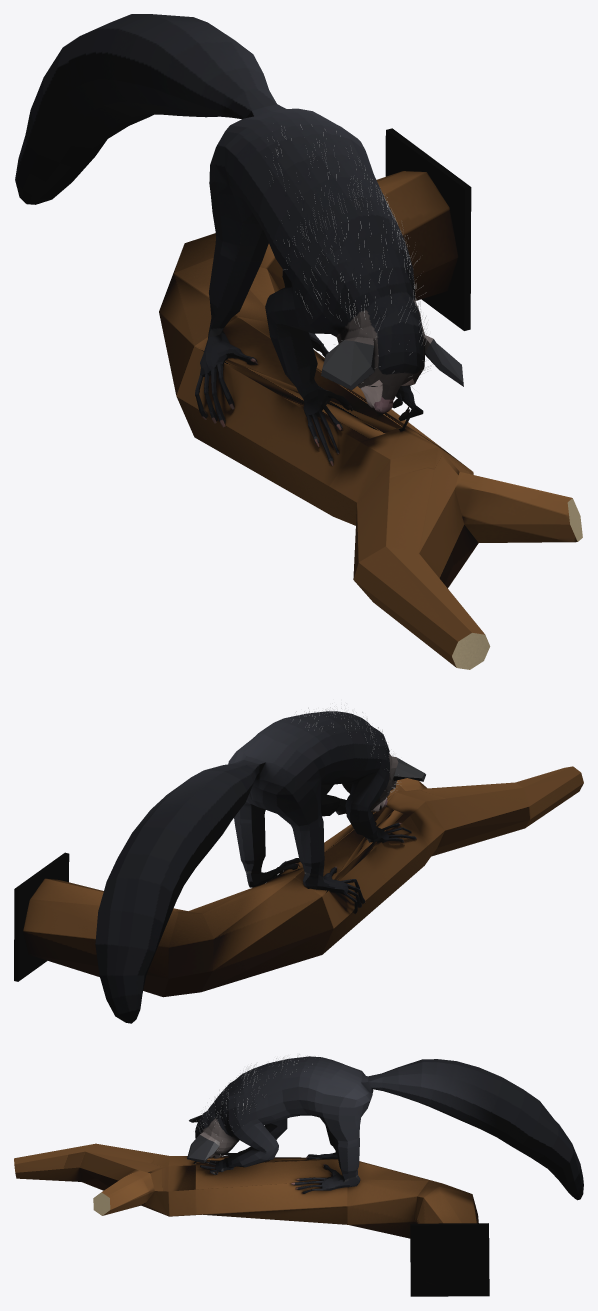
Rendered from aye-aye.glb.
3 renders of one model, top to bottom at view 1: azimuth 30°, elevation 25°; view 2: azimuth 150°, elevation 25°; view 3: azimuth 270°, elevation 25°, orthographic. The views are drawn at different scales.
Parts seen in each view (by area): view 1: Aye-aye.baked; view 2: Aye-aye.baked; view 3: Aye-aye.baked.
Boxes of the visible parts, left/top/right/bottom form: Aye-aye.baked: left=15, top=14, right=582, bottom=669; Aye-aye.baked: left=14, top=703, right=583, bottom=1023; Aye-aye.baked: left=14, top=1054, right=583, bottom=1296.
Size of the model in its own units: 0.4738 by 0.3705 by 1.11.
Materials: 1 (1 with a texture image).
